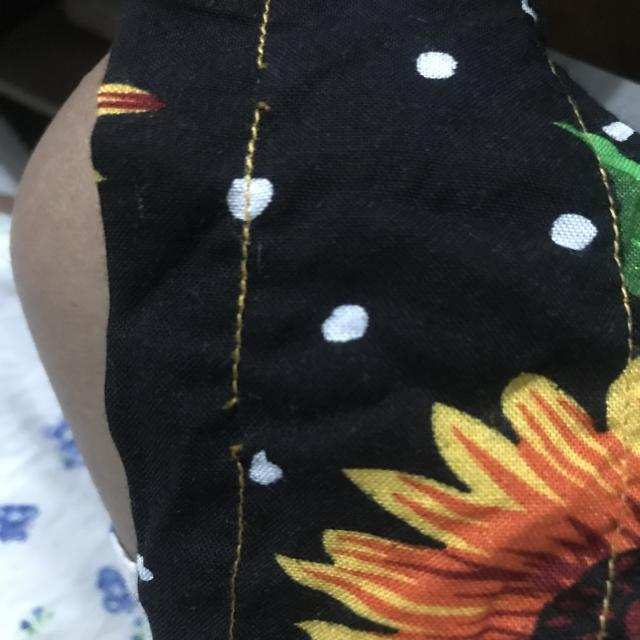broken: (199, 387, 272, 470), (236, 48, 292, 124)
